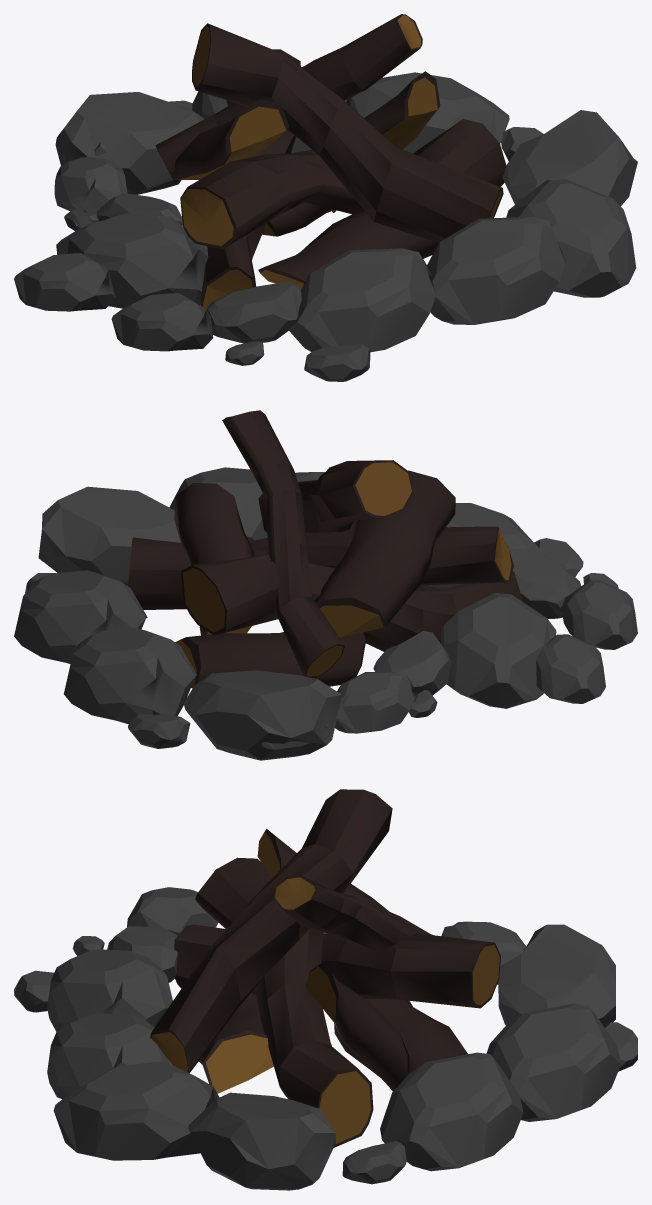
Rendered from FIRE_New.FBX.
The picture shows the model from 3 angles, top to bottom: view 1: azimuth 30°, elevation 25°; view 2: azimuth 150°, elevation 25°; view 3: azimuth 270°, elevation 25°; orthographic projection. The views are drawn at different scales.
Parts seen in each view (by area): view 1: Cylinder010, Cylinder009, Box014, Box016, Box028, Box032, Box017, Box013, Cylinder013, Cylinder011, Box022, Cylinder008 (+12 smaller); view 2: Cylinder011, Cylinder001, Box017, Cylinder013, Cylinder009, Box018, Box028, Box013, Box020, Cylinder010, Cylinder007, Cylinder012 (+10 smaller); view 3: Cylinder010, Cylinder009, Box020, Box032, Cylinder001, Box013, Box018, Box017, Box016, Box014, Cylinder013, Cylinder012 (+9 smaller).
Boxes of the visible parts, left/top/right/bottom form: Cylinder010: left=192, top=23, right=503, bottom=242; Cylinder009: left=180, top=119, right=506, bottom=249; Box014: left=427, top=216, right=566, bottom=324; Box016: left=288, top=248, right=436, bottom=352; Box028: left=56, top=213, right=208, bottom=308; Box032: left=506, top=179, right=636, bottom=297; Box017: left=55, top=92, right=204, bottom=194; Box013: left=502, top=110, right=637, bottom=206; Cylinder013: left=155, top=14, right=422, bottom=182; Cylinder011: left=173, top=99, right=289, bottom=179; Box022: left=111, top=293, right=213, bottom=351; Cylinder008: left=258, top=211, right=438, bottom=289; Cylinder011: left=314, top=470, right=455, bottom=637; Cylinder001: left=181, top=555, right=522, bottom=651; Box017: left=183, top=670, right=341, bottom=760; Cylinder013: left=222, top=410, right=344, bottom=677; Cylinder009: left=127, top=526, right=513, bottom=609; Box018: left=64, top=628, right=196, bottom=724; Box028: left=441, top=593, right=556, bottom=708; Box013: left=38, top=486, right=180, bottom=585; Box020: left=14, top=570, right=147, bottom=663; Cylinder010: left=258, top=460, right=414, bottom=533; Cylinder007: left=175, top=632, right=365, bottom=688; Cylinder012: left=174, top=483, right=254, bottom=635; Cylinder010: left=150, top=789, right=392, bottom=1073; Cylinder009: left=195, top=857, right=373, bottom=1147; Box020: left=380, top=1052, right=523, bottom=1171; Box032: left=53, top=1061, right=219, bottom=1160; Cylinder001: left=174, top=924, right=500, bottom=1008; Box013: left=188, top=1092, right=335, bottom=1190; Box018: left=486, top=1003, right=621, bottom=1121; Box017: left=498, top=924, right=615, bottom=1026; Box016: left=47, top=949, right=172, bottom=1031; Box014: left=47, top=1013, right=172, bottom=1099; Cylinder013: left=274, top=876, right=433, bottom=953; Cylinder012: left=305, top=964, right=409, bottom=1091.
Size of the model in its own units: 0.6269 by 0.2494 by 0.5684.
